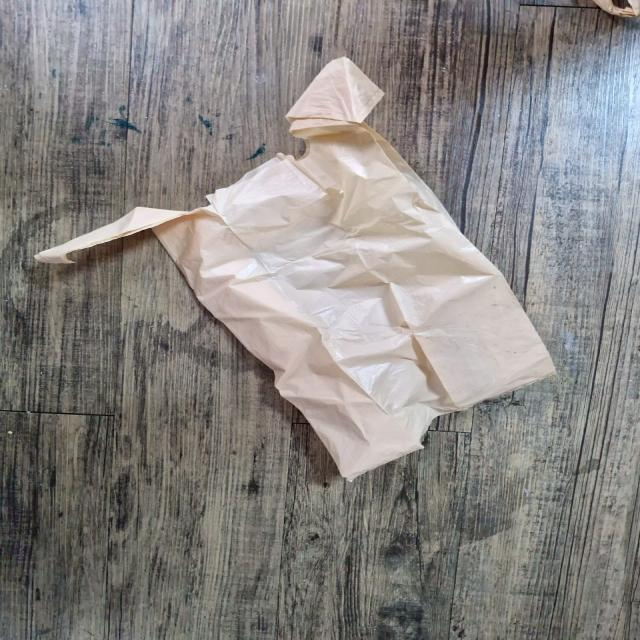plastic bag: (21, 47, 562, 491)
